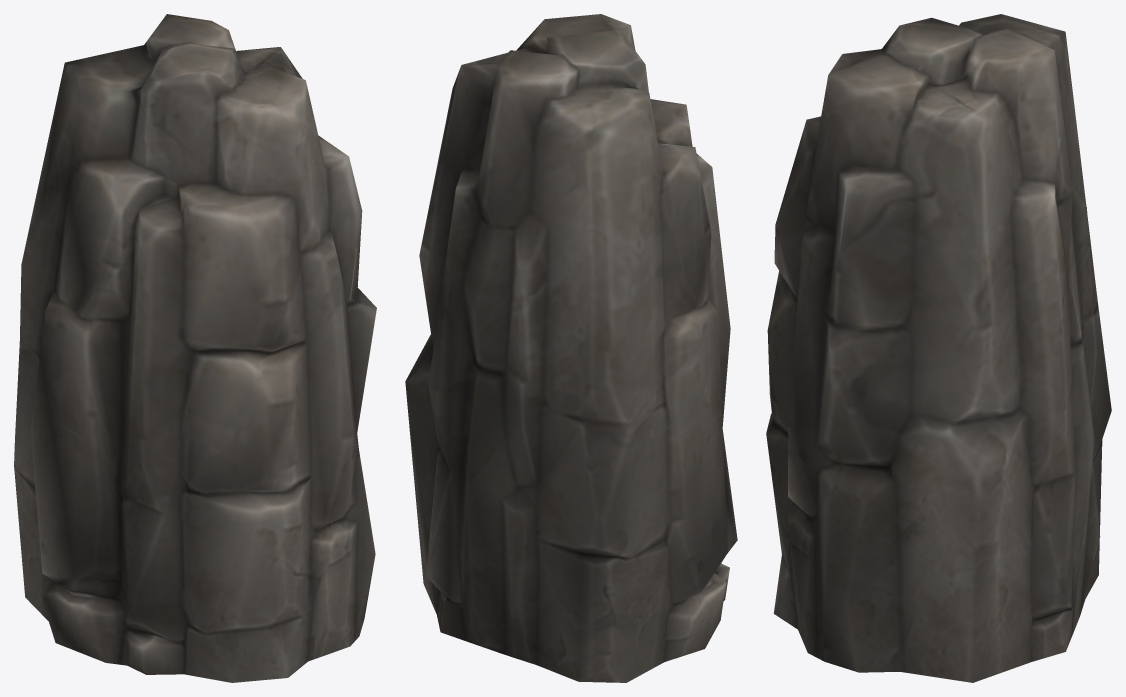
Rendered from BigRock01.FBX.
3 renders of one model, left to right at view 1: azimuth 30°, elevation 25°; view 2: azimuth 150°, elevation 25°; view 3: azimuth 270°, elevation 25°, orthographic. The views are drawn at different scales.
Parts seen in each view (by area): view 1: BigRock01; view 2: BigRock01; view 3: BigRock01.
Boxes of the visible parts, x1,y1,x2,y2 form: BigRock01: [14, 14, 376, 682]; BigRock01: [405, 14, 737, 682]; BigRock01: [766, 14, 1111, 682].
Bounding box in the file's own units: 3.95 × 3.91 × 7.21.
